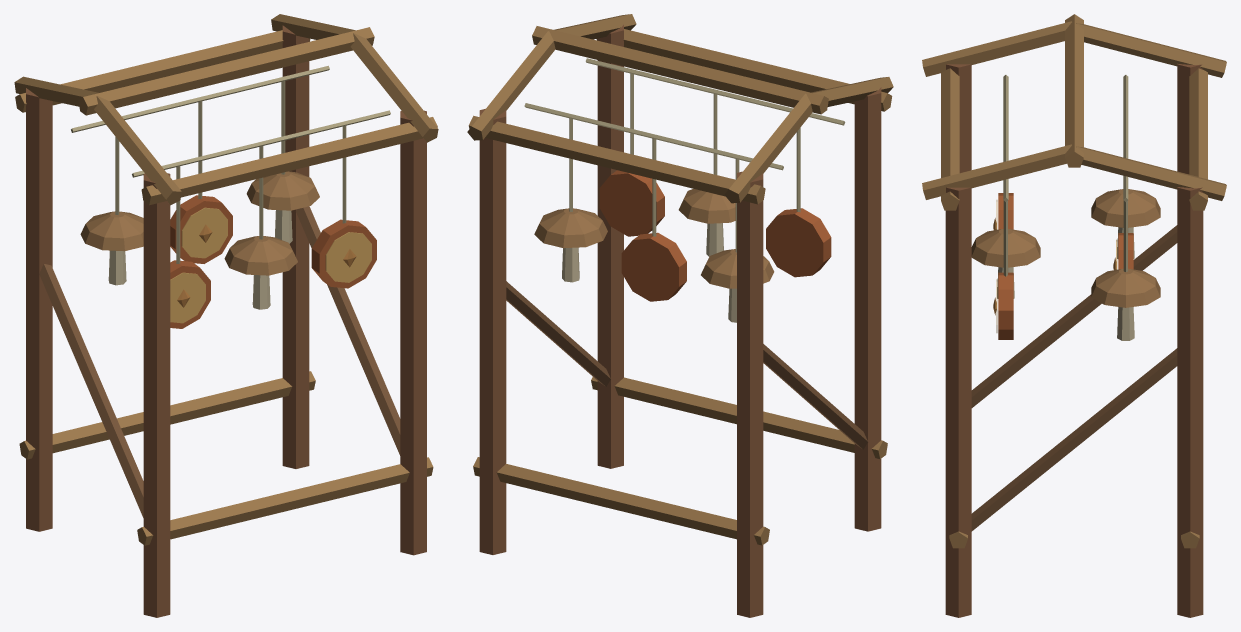
The model's file is drying_rack.glb.
The picture shows the model from 3 angles, left to right: view 1: azimuth 30°, elevation 25°; view 2: azimuth 150°, elevation 25°; view 3: azimuth 270°, elevation 25°; orthographic projection.
Visible parts, largest first — view 1: drying_rack; view 2: drying_rack; view 3: drying_rack.
Boxes of the visible parts, left/top/right/bottom form: drying_rack: left=14, top=14, right=438, bottom=617; drying_rack: left=467, top=14, right=893, bottom=617; drying_rack: left=922, top=14, right=1226, bottom=617.
Bounding box in the file's own units: 0.76 × 1.2 × 0.7115.
